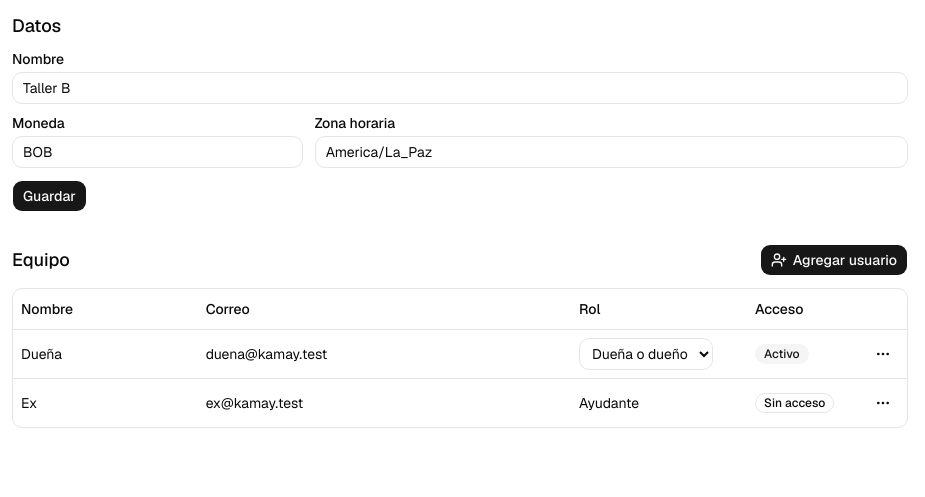
Test: OrganizationDetail › el error del último dueño se muestra
This screenshot has width=925, height=497.
Step 1. Click the button named "Acciones de duena@kamay.test" → (883, 354), box [867, 338, 899, 370]
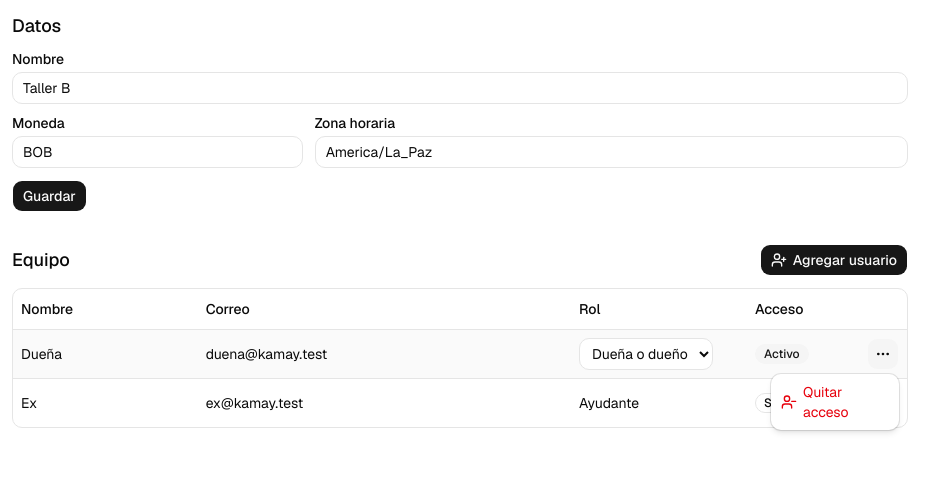
Step 2. Click the menu item "Quitar acceso" → (815, 402), box [781, 383, 848, 421]
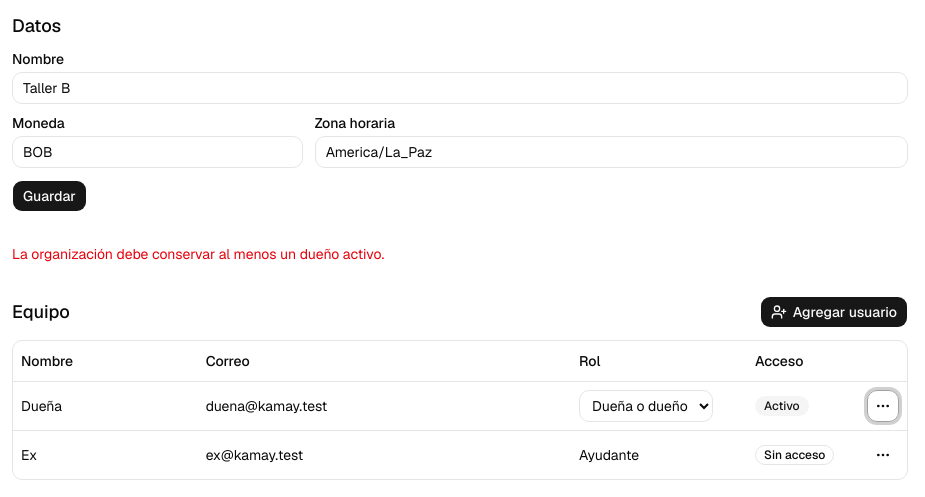
expect the message shows "al menos un dueño activo": met, box [12, 245, 384, 263]
